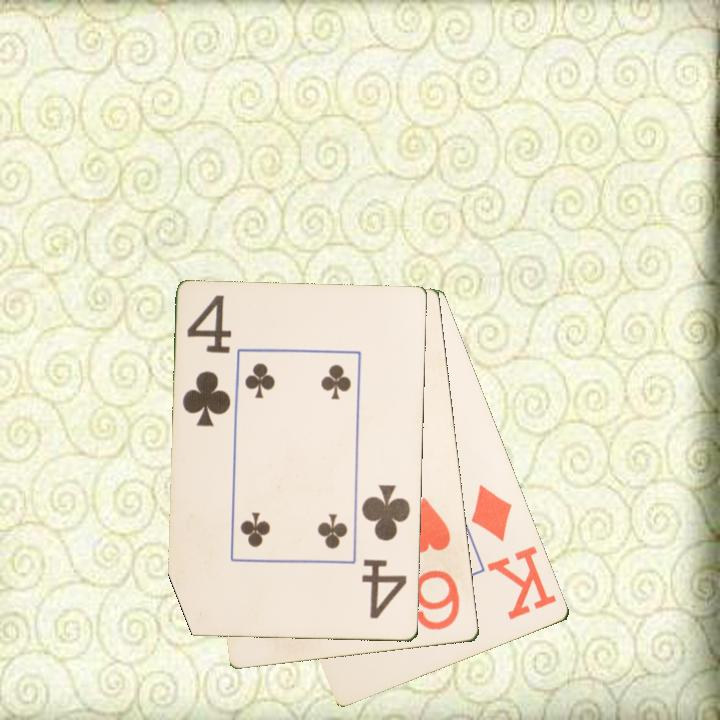4c: (359, 482, 414, 623), (179, 292, 235, 430)
6h: (405, 494, 465, 634)
Kd: (468, 481, 560, 623)
